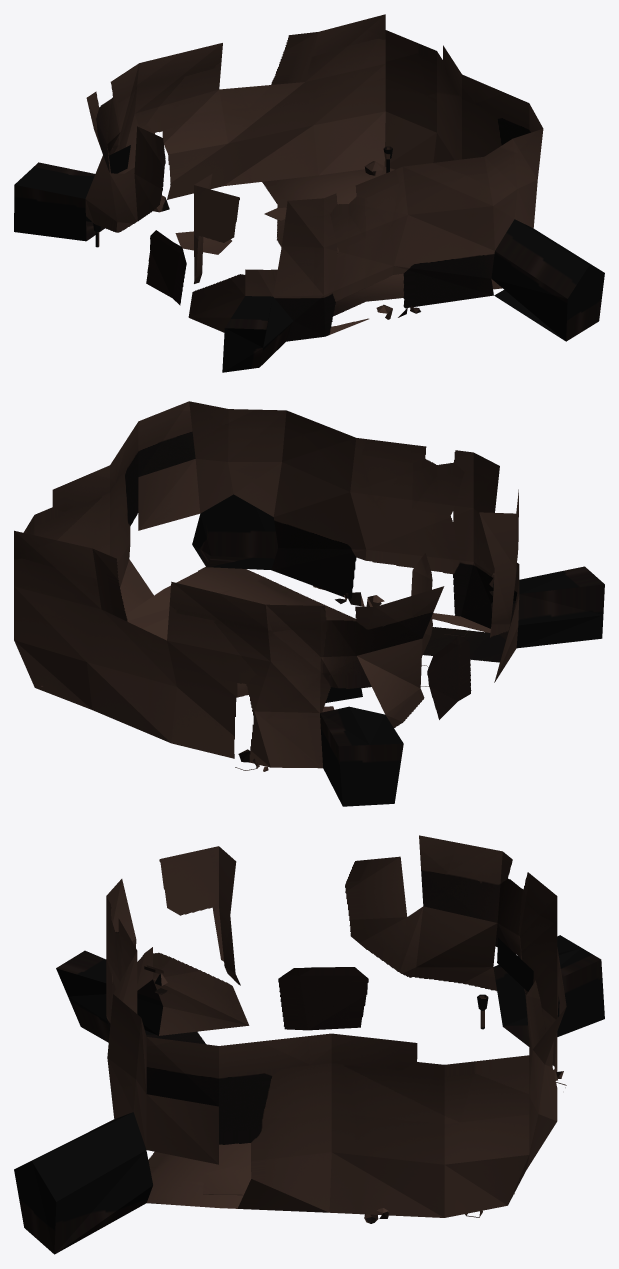
The model's file is level.obj.
3 views of the same model, one above another, from view 1: azimuth 30°, elevation 25°; view 2: azimuth 150°, elevation 25°; view 3: azimuth 270°, elevation 25° (orthographic). The views are drawn at different scales.
Parts seen in each view (by area): view 1: Plane.000_Plane.010, Plane.001_Plane.005; view 2: Plane.000_Plane.010, Plane.001_Plane.005; view 3: Plane.000_Plane.010, Plane.001_Plane.005.
Boxes of the visible parts, left/top/right/bottom form: Plane.000_Plane.010: left=14, top=14, right=601, bottom=368; Plane.001_Plane.005: left=14, top=145, right=604, bottom=372; Plane.000_Plane.010: left=14, top=401, right=604, bottom=771; Plane.001_Plane.005: left=192, top=494, right=603, bottom=806; Plane.000_Plane.010: left=16, top=835, right=602, bottom=1254; Plane.001_Plane.005: left=14, top=935, right=604, bottom=1231.
Size of the model in its own units: 298 by 126 by 325.
Materials: 6 (6 with a texture image).
